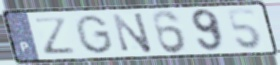5: (225, 6, 266, 52)
6: (151, 8, 189, 55)
9: (188, 7, 226, 54)
G: (73, 13, 115, 56)
N: (109, 11, 155, 55)
Z: (31, 16, 78, 56)
